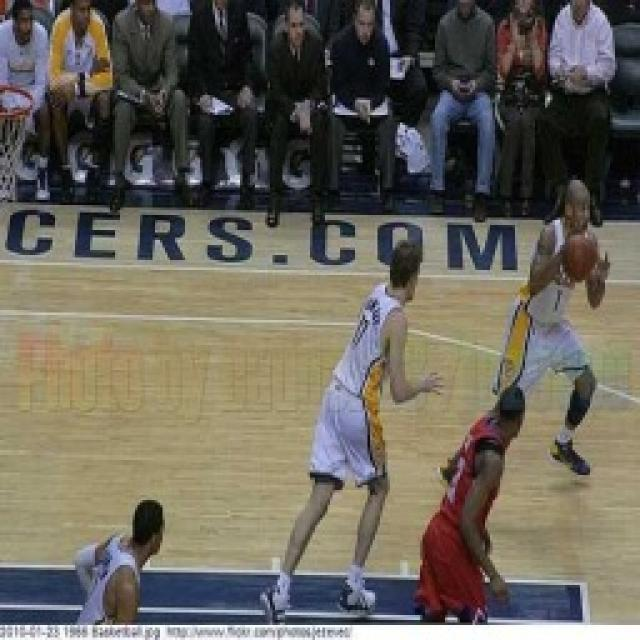basketball: (560, 236, 598, 280)
